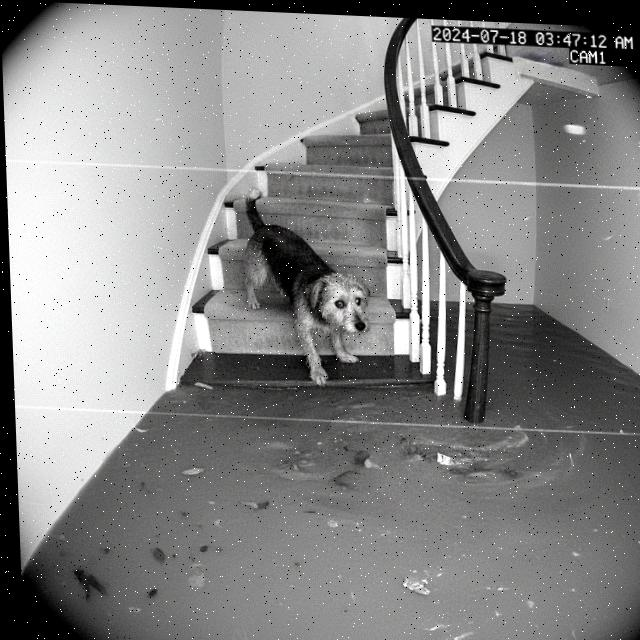dog: (233, 186, 381, 400)
